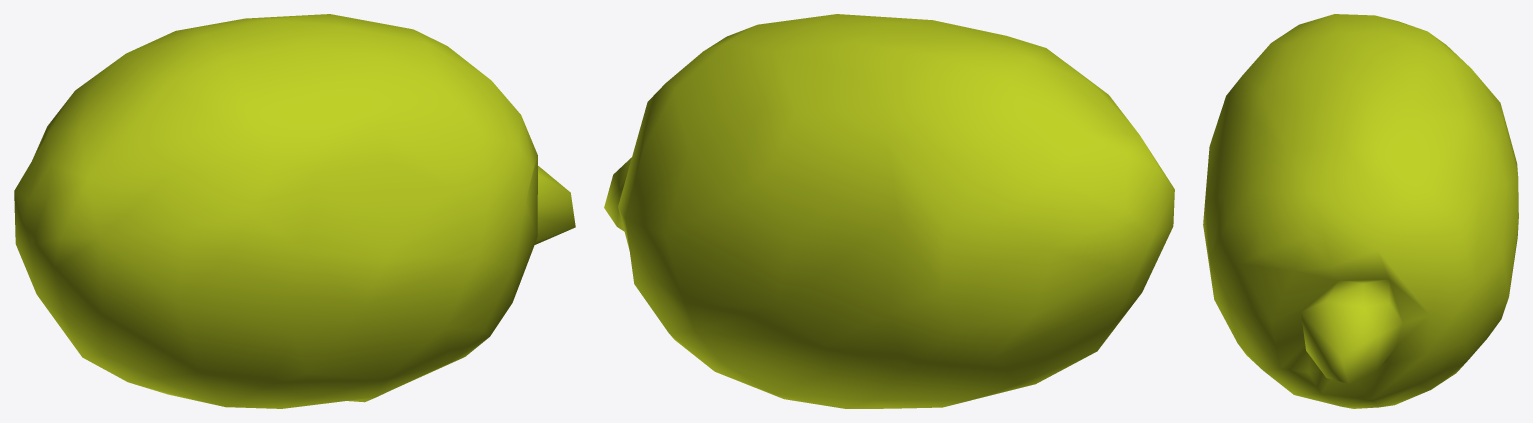
The model's file is Lemon.fbx.
3 renders of one model, left to right at view 1: azimuth 30°, elevation 25°; view 2: azimuth 150°, elevation 25°; view 3: azimuth 270°, elevation 25°, orthographic. The views are drawn at different scales.
Parts seen in each view (by area): view 1: Lemon; view 2: Lemon; view 3: Lemon.
Part boxes in pixels (x1,y1,x2,y2): Lemon: (14, 14, 575, 408); Lemon: (604, 14, 1174, 408); Lemon: (1203, 14, 1518, 408).
Size of the model in its own units: 12.12 by 7.85 by 7.34.
